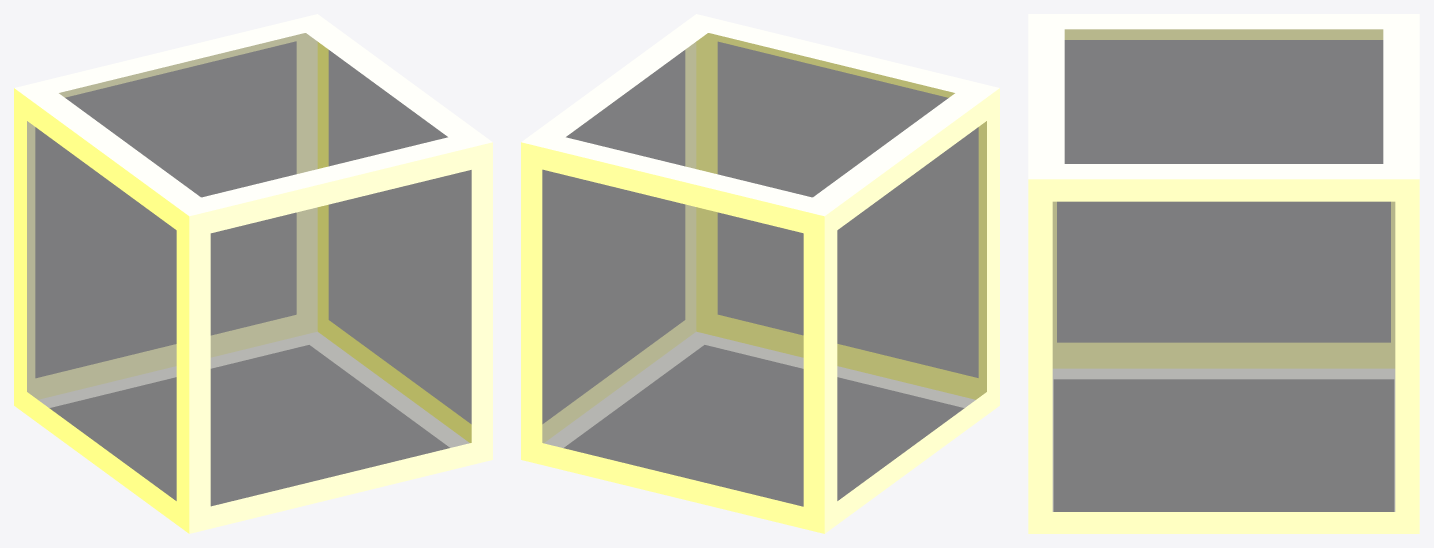
File: cubeframe.glb
3 views of the same model, side by side, from view 1: azimuth 30°, elevation 25°; view 2: azimuth 150°, elevation 25°; view 3: azimuth 270°, elevation 25° (orthographic). The views are drawn at different scales.
Visible parts, largest first — view 1: Cube; view 2: Cube; view 3: Cube.
Boxes of the visible parts, x1,y1,x2,y2 form: Cube: (14, 14, 492, 533); Cube: (521, 14, 999, 533); Cube: (1028, 14, 1419, 533).
Bounding box in the file's own units: 1 × 1 × 1.
